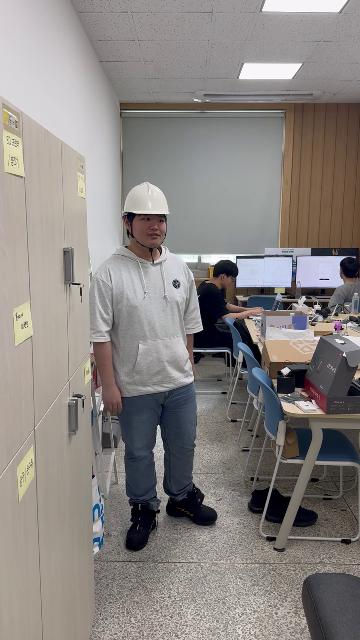helmet_worn: (121, 181, 172, 216)
shoe_not_worn: (264, 492, 316, 527), (247, 487, 304, 517)
shoe_worn: (166, 486, 216, 525), (125, 503, 160, 551)
vest_not_worn: (93, 248, 199, 389)
